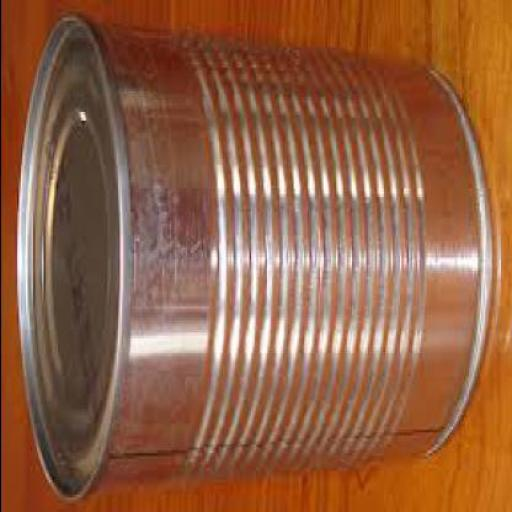metal: (12, 9, 488, 501)
